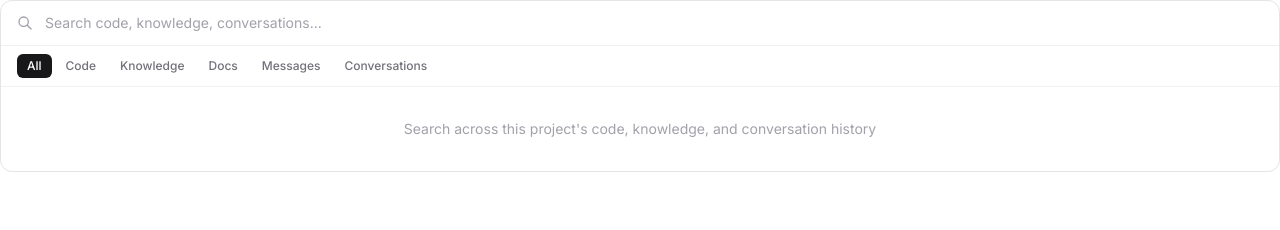
it: SearchPanel › displays provenance with PR link
Type "login" into the field with placeholder "Search code, knowledge, conversations..." at (654, 23), box 45,13 -> 1263,33
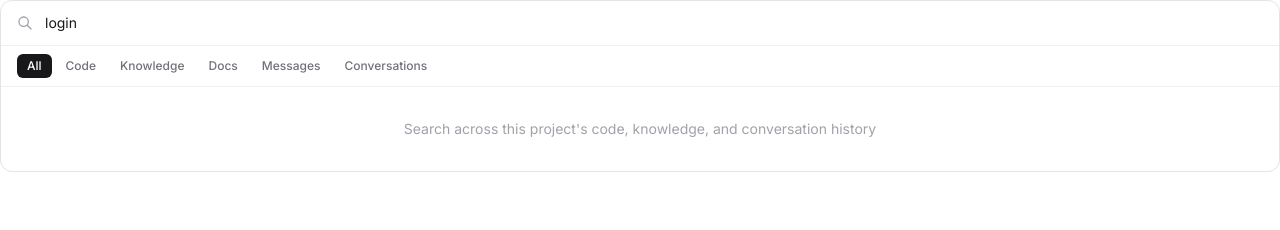
Press Enter in the field with placeholder "Search code, knowledge, conversations...", box 45,13 -> 1263,33
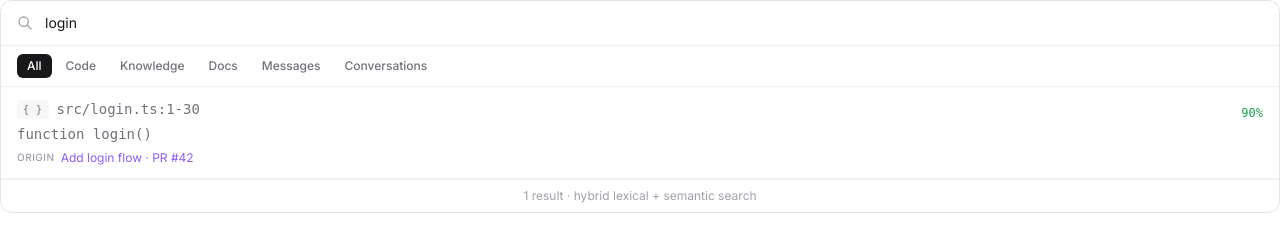
Result: the link "Add login flow · PR #42" is shown at 61,150 -> 194,166
